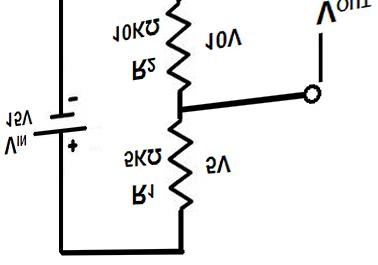resistor: (162, 121, 199, 210), (161, 1, 194, 92)
